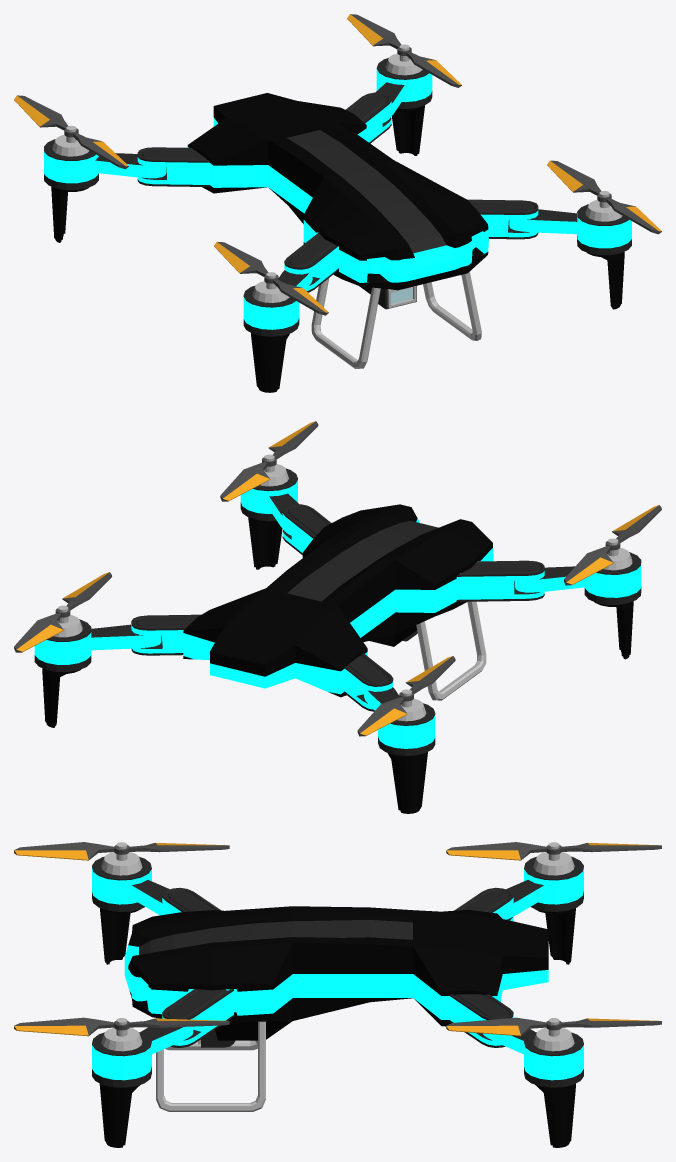
Rendered from drone_side_painted_emissive.glb.
3 renders of one model, top to bottom at view 1: azimuth 30°, elevation 25°; view 2: azimuth 150°, elevation 25°; view 3: azimuth 270°, elevation 25°, orthographic. The views are drawn at different scales.
Visible parts, largest first — view 1: Body, Rotor_FL, Rotor_BL, Rotor_BR, Rotor_FR, Cube.002; view 2: Body, Rotor_FR, Rotor_BL, Rotor_FL, Rotor_BR; view 3: Body, Rotor_FL, Rotor_BL, Rotor_FR, Rotor_BR.
Boxes of the visible parts, box(x1,y1,x2,y2) form: Body: box(44, 44, 631, 392); Rotor_FL: box(547, 160, 661, 234); Rotor_BL: box(347, 14, 461, 87); Rotor_BR: box(14, 95, 128, 169); Rotor_FR: box(214, 241, 328, 315); Cube.002: box(378, 285, 416, 309); Body: box(34, 454, 641, 813); Rotor_FR: box(564, 505, 661, 585); Rotor_BL: box(14, 572, 111, 652); Rotor_FL: box(220, 421, 318, 501); Rotor_BR: box(357, 656, 455, 736); Body: box(92, 842, 583, 1147); Rotor_FL: box(14, 1017, 229, 1036); Rotor_BL: box(446, 1017, 661, 1036); Rotor_FR: box(14, 842, 229, 860); Rotor_BR: box(446, 842, 661, 860).
Bounding box in the file's own units: 0.5736 × 0.2076 × 0.7813.
Materials: 2 (1 with a texture image).
